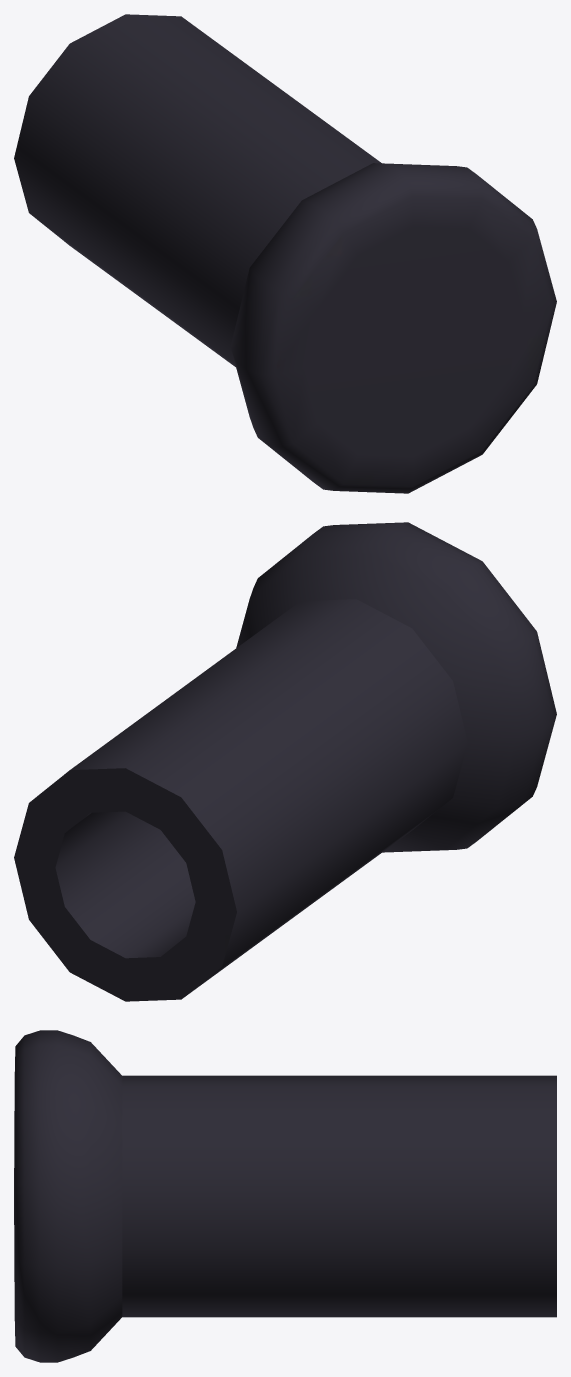
Rendered from Assist_lianjiezhou.FBX.
The picture shows the model from 3 angles, top to bottom: view 1: azimuth 30°, elevation 25°; view 2: azimuth 150°, elevation 25°; view 3: azimuth 270°, elevation 25°; orthographic projection. The views are drawn at different scales.
Parts seen in each view (by area): view 1: Assist_lianjiezhou; view 2: Assist_lianjiezhou; view 3: Assist_lianjiezhou.
Part boxes in pixels (<box>): Assist_lianjiezhou: <box>14,14,556,493</box>; Assist_lianjiezhou: <box>14,522,556,1001</box>; Assist_lianjiezhou: <box>14,1030,556,1362</box>.
Bounding box in the file's own units: 0.3471 × 0.3471 × 0.5652.
1 material, 1 textured.
